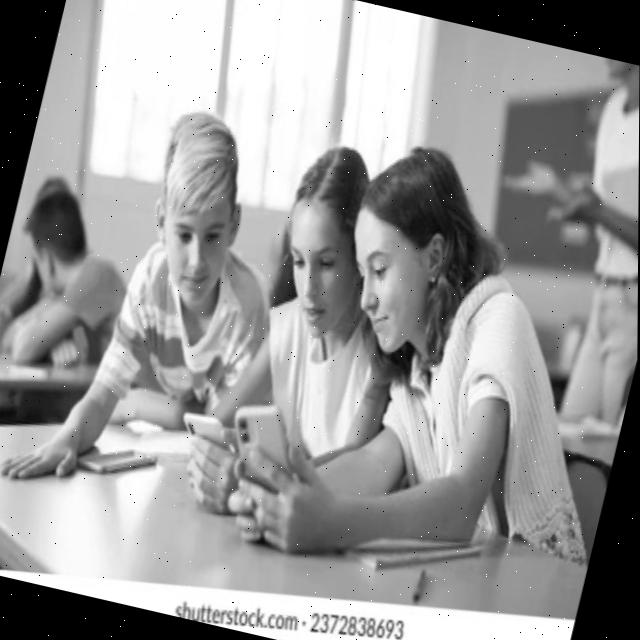phone: (215, 392, 312, 504), (71, 432, 162, 488), (174, 402, 242, 461)
